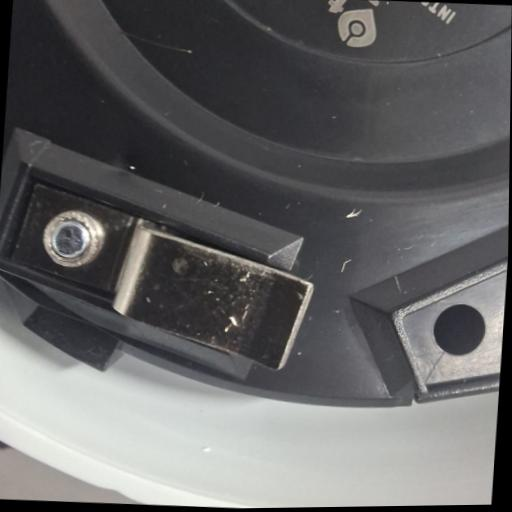yaysiz: (0, 172, 311, 376)
